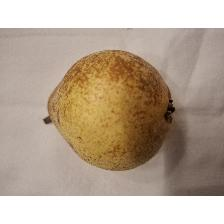Birne: (41, 48, 178, 172)
